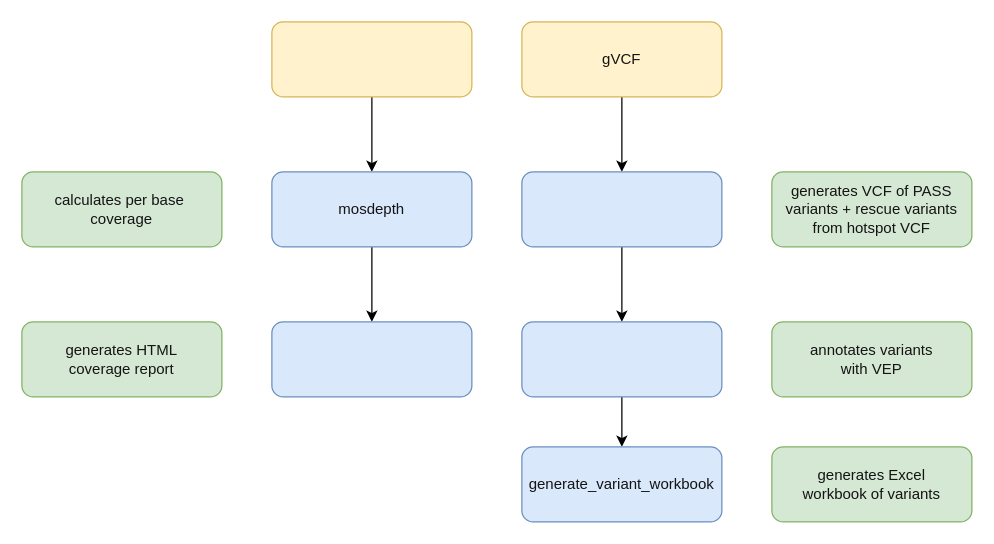
Some shapes in this 994 by 544 pixel diagram are drawn without their labels. The shapes that lost their labels are listed below. From the top down, each one's centre as x and y in pixels, then its label:
At point (371, 59): "_StichedRealigned.bam + .bai".
At point (621, 209): "tso500_rescue".
At point (371, 359): "athena".
At point (621, 359): "vep".
